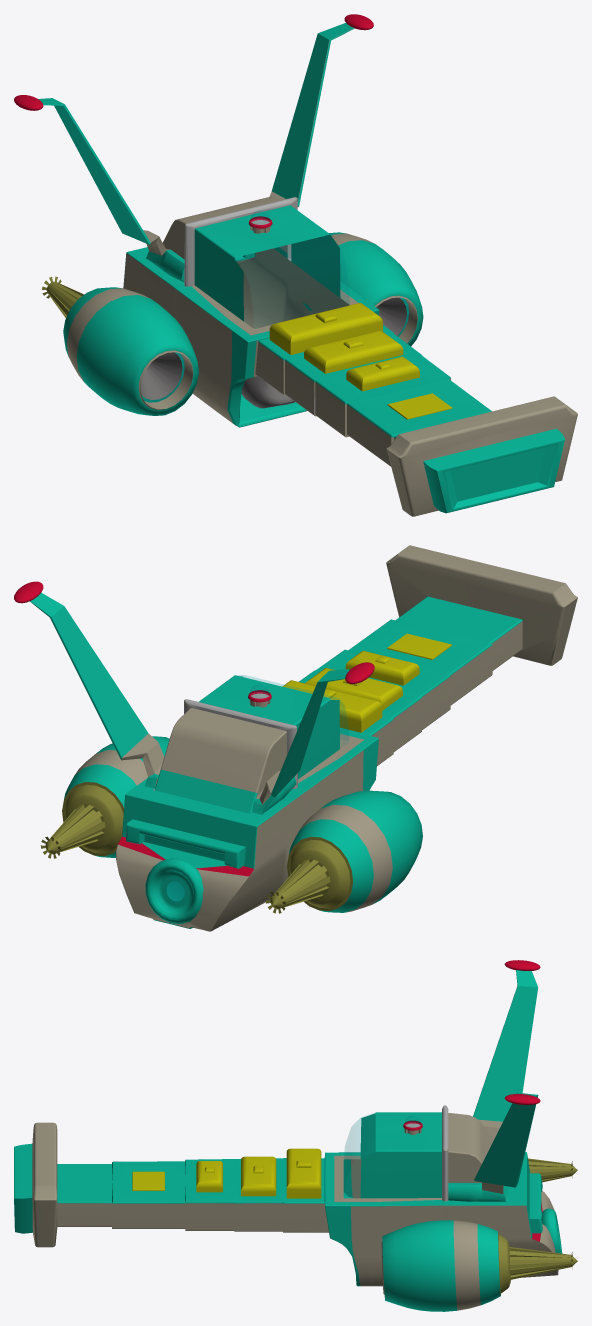
Rendered from LittleShip 1.fbx.
The picture shows the model from 3 angles, top to bottom: view 1: azimuth 30°, elevation 25°; view 2: azimuth 150°, elevation 25°; view 3: azimuth 270°, elevation 25°; orthographic projection. The views are drawn at different scales.
Parts seen in each view (by area): view 1: LittleShip, pSphere4, pSphere3, pSphere5, pSphere8; view 2: LittleShip, pSphere4, pSphere3, pSphere7, pSphere8; view 3: LittleShip, pSphere3, pSphere4, pSphere8, pSphere7.
Boxes of the visible parts, x1=… form: LittleShip: x1=38, y1=23, x2=577, y2=516; pSphere4: x1=42, y1=276, x2=198, y2=415; pSphere3: x1=303, y1=232, x2=423, y2=346; pSphere5: x1=241, y1=376, x2=294, y2=408; pSphere8: x1=14, y1=14, x2=373, y2=110; LittleShip: x1=30, y1=545, x2=577, y2=931; pSphere4: x1=265, y1=790, x2=422, y2=913; pSphere3: x1=40, y1=736, x2=169, y2=858; pSphere7: x1=145, y1=858, x2=203, y2=923; pSphere8: x1=14, y1=581, x2=374, y2=683; LittleShip: x1=14, y1=970, x2=558, y2=1286; pSphere3: x1=381, y1=1220, x2=577, y2=1311; pSphere4: x1=528, y1=1158, x2=577, y2=1182; pSphere8: x1=504, y1=960, x2=540, y2=1105; pSphere7: x1=541, y1=1208, x2=562, y2=1253.
Bounding box in the file's own units: 20.67 × 15.99 × 34.72.
